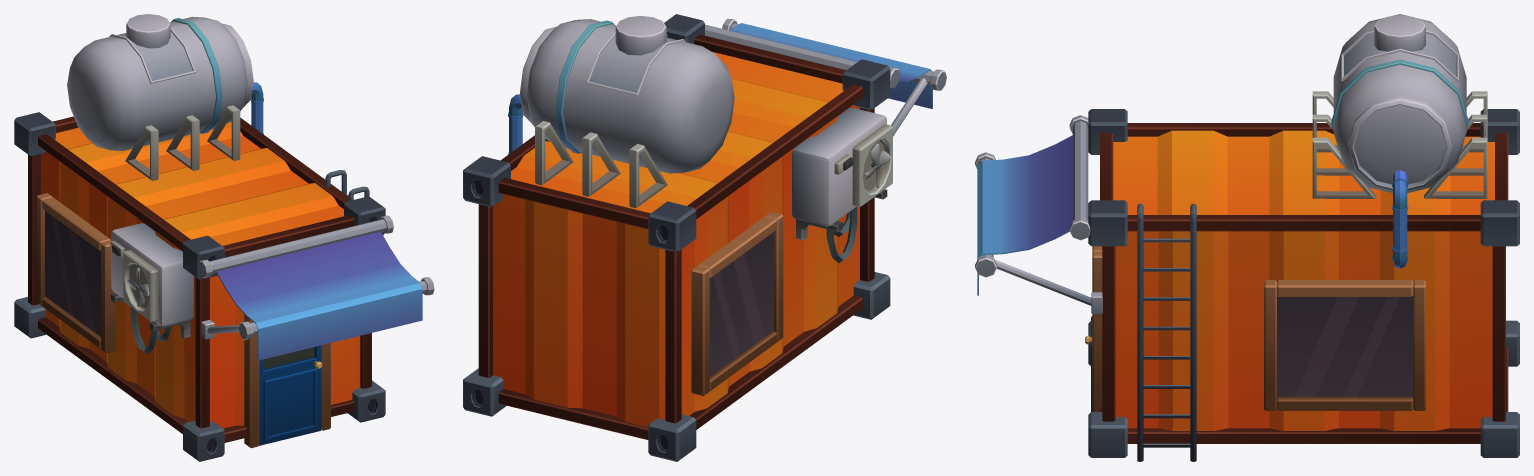
File: sp_prebuild_house_11.fbx
3 renders of one model, left to right at view 1: azimuth 30°, elevation 25°; view 2: azimuth 150°, elevation 25°; view 3: azimuth 270°, elevation 25°, orthographic. The views are drawn at different scales.
Visible parts, largest first — view 1: finb_house_11; view 2: finb_house_11; view 3: finb_house_11.
Boxes of the visible parts, bbox=[...] form: finb_house_11: bbox=[14, 14, 434, 461]; finb_house_11: bbox=[463, 14, 946, 461]; finb_house_11: bbox=[975, 14, 1519, 461].
Bounding box in the file's own units: 349 × 478 × 630.
